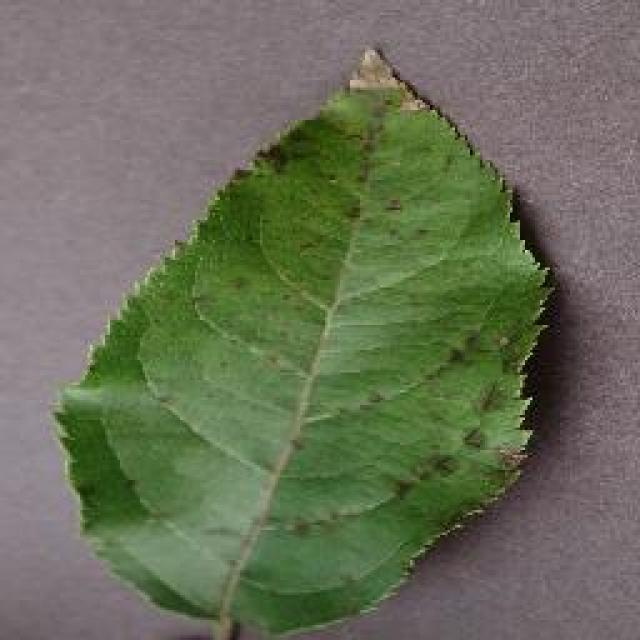apple scab disease: (48, 42, 558, 638)
